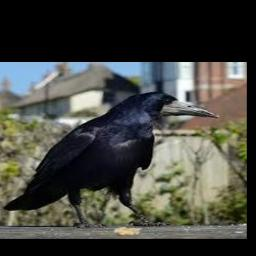Crow: (4, 90, 218, 228)
